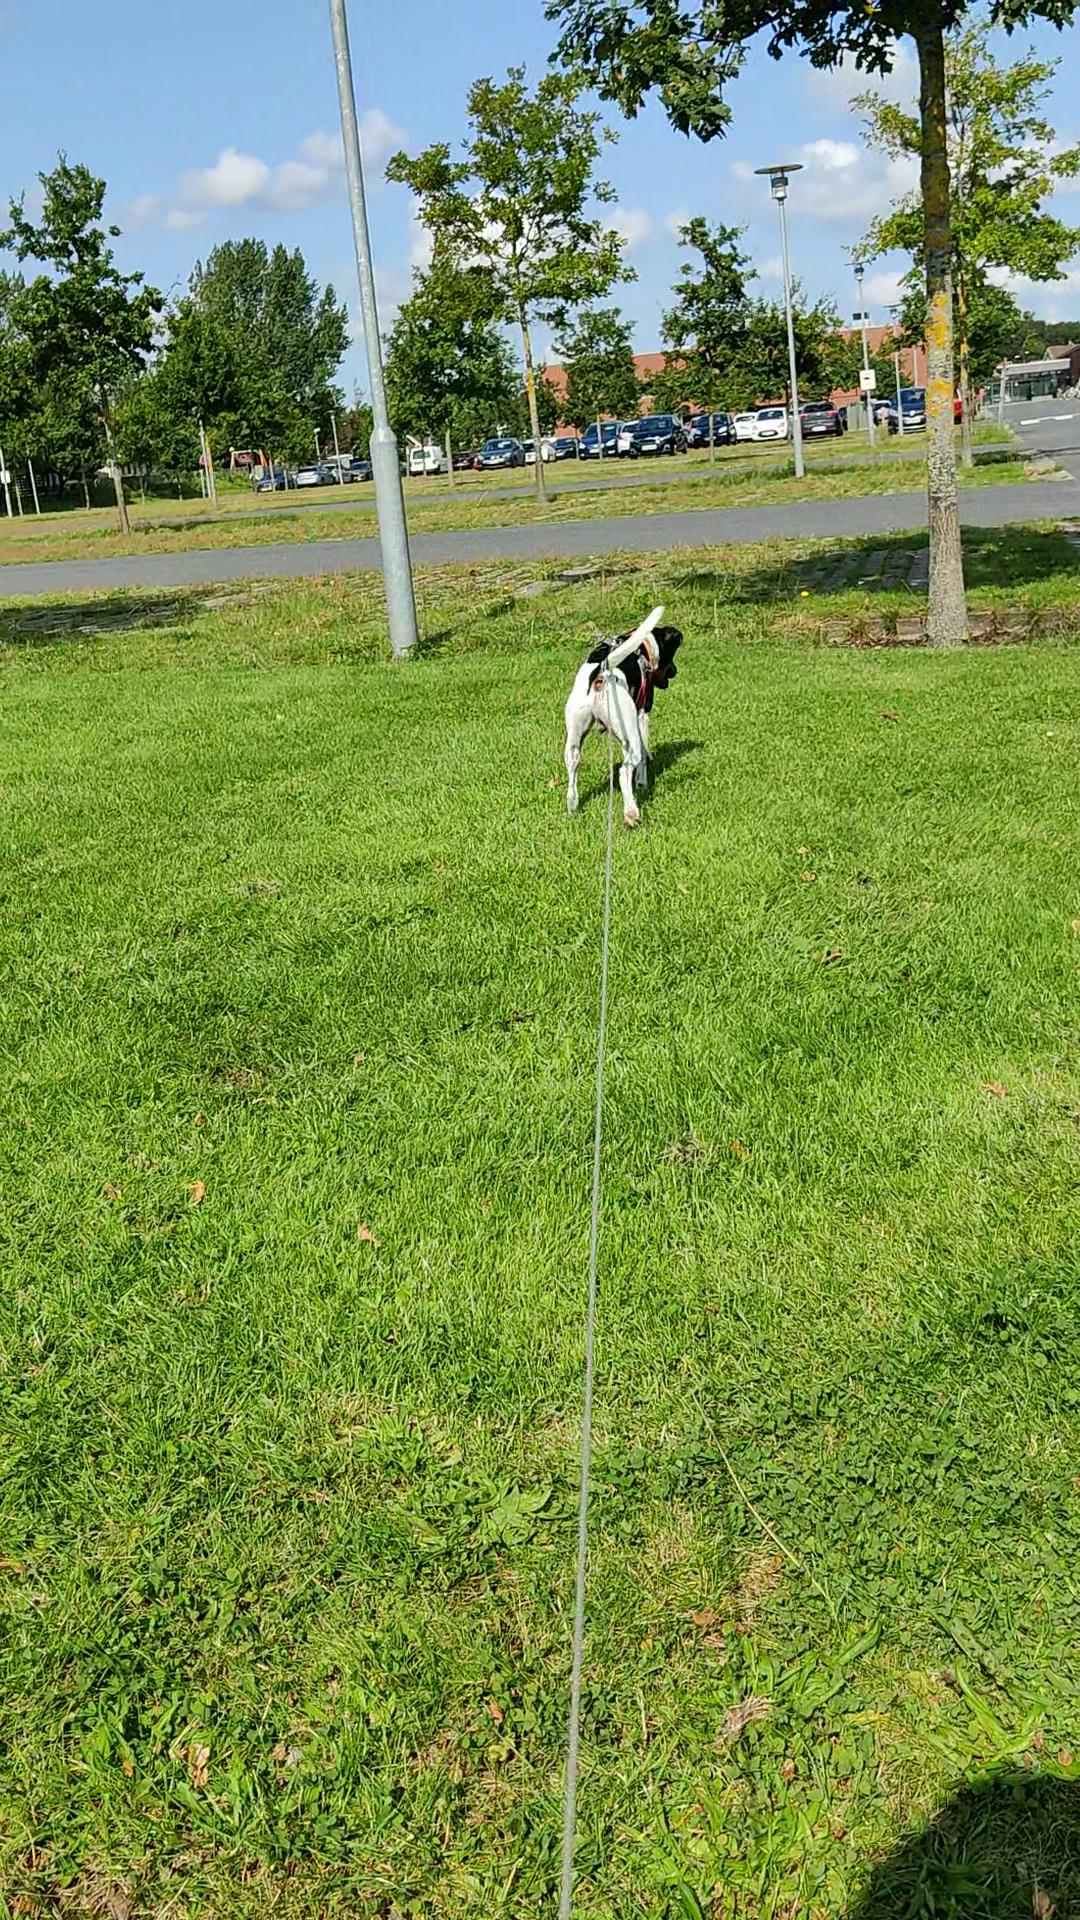Dog: (556, 599, 683, 833)
